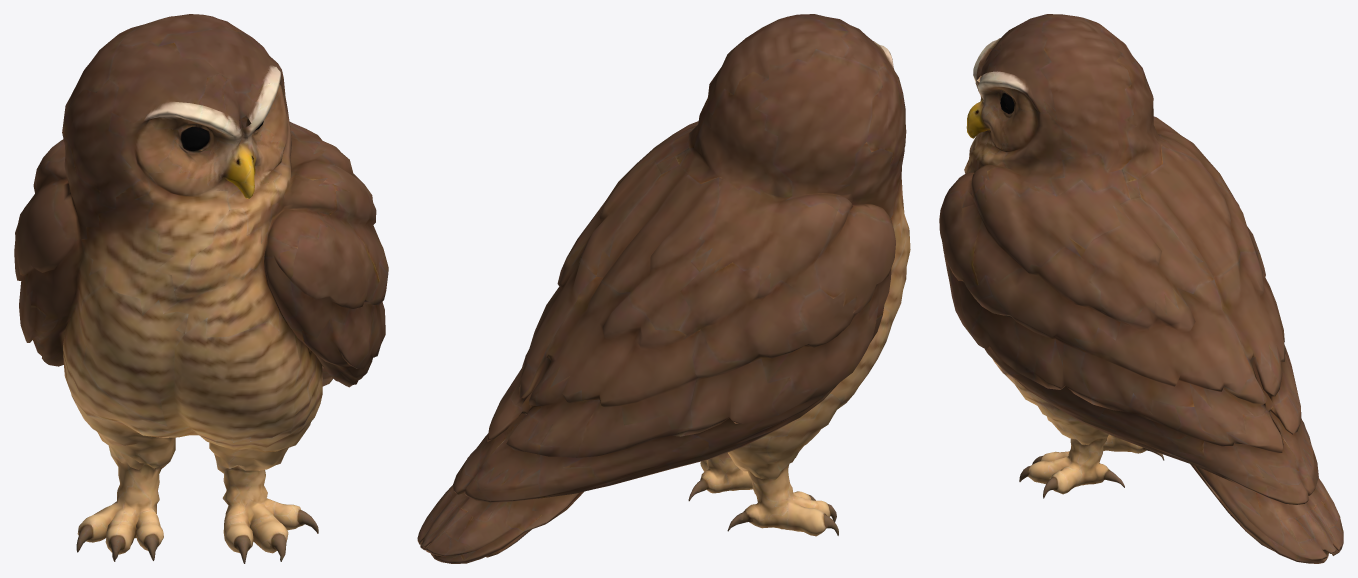
The model's file is owl-spectacled2.glb.
The picture shows the model from 3 angles, left to right: view 1: azimuth 30°, elevation 25°; view 2: azimuth 150°, elevation 25°; view 3: azimuth 270°, elevation 25°; orthographic projection. The views are drawn at different scales.
Parts seen in each view (by area): view 1: geometry_0; view 2: geometry_0; view 3: geometry_0.
Boxes of the visible parts, box(x1,y1,x2,y2) form: geometry_0: box(14, 14, 388, 563); geometry_0: box(417, 14, 910, 563); geometry_0: box(939, 14, 1343, 563).
Bounding box in the file's own units: 0.7466 × 0.9517 × 0.8056.
Materials: 1 (1 with a texture image).
